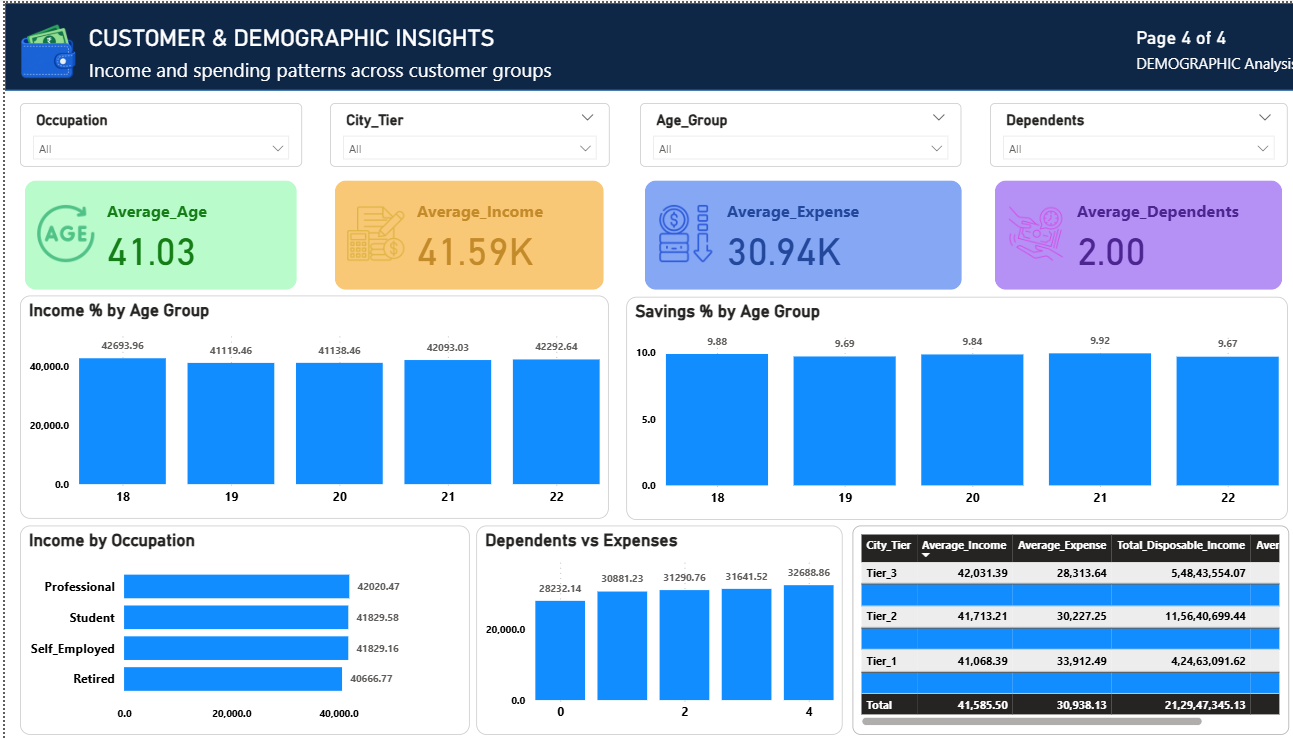

Layout of this report page (visuals, bound fields, positions):
{"tool":"powerbi","page":{"name":"DEMOGRAPHIC ANALYSIS","canvas":[1280,720],"ordinal":3},"visuals":[{"type":"shape","box":[0,0,1280.3,85.6],"z":0},{"type":"image","box":[0,9.8,80.7,75.8],"z":1000},{"type":"textbox","title":"CUSTOMER & DEMOGRAPHIC INSIGHTS","box":[77,20.8,480.6,62.4],"z":2000},{"type":"slicer","fields":{"Values":["Personal_Finance.Occupation"]},"box":[14.7,97.8,276.4,62.4],"z":3000},{"type":"slicer","fields":{"Values":["Personal_Finance.City_Tier"]},"box":[317.9,97.8,273.9,62.4],"z":4000},{"type":"slicer","fields":{"Values":["Personal_Finance.Age"]},"box":[621.2,97.8,314.3,62.4],"z":5000},{"type":"slicer","fields":{"Values":["Personal_Finance.Dependents"]},"box":[963.6,97.8,291,62.4],"z":6000},{"type":"cardVisual","title":"vc","fields":{"Data":["Personal_Finance.Average_Income"]},"box":[317.5,168.8,273.8,117.5],"z":7000},{"type":"cardVisual","title":"vc","fields":{"Data":["Personal_Finance.Average_Expense"]},"box":[621.2,168.8,320,117.5],"z":8000},{"type":"cardVisual","title":"vc","fields":{"Data":["Personal_Finance.Average_Dependents"]},"box":[963.8,168.8,291.2,117.5],"z":9000},{"type":"cardVisual","fields":{"Data":["Personal_Finance.Average_Age"]},"box":[15,168.8,276.2,117.5],"z":10000},{"type":"clusteredColumnChart","title":"Income % by Age Group","fields":{"Y":["Personal_Finance.Average_Income"],"Category":["Personal_Finance.Age"]},"box":[15,286.2,576.2,218.8],"z":11000},{"type":"barChart","title":"Income by Occupation","fields":{"Category":["Personal_Finance.Occupation"],"Y":["Personal_Finance.Average_Income"]},"box":[15,511.2,440,205],"z":12000},{"type":"clusteredColumnChart","title":"Savings % by Age Group","fields":{"Category":["Personal_Finance.Age"],"Y":["Personal_Finance.Average_Savings_%"]},"box":[607.5,287.5,647.5,218.8],"z":13000},{"type":"clusteredColumnChart","title":"Dependents vs Expenses","fields":{"Category":["Personal_Finance.Dependents"],"Y":["Personal_Finance.Average_Expense"]},"box":[461.2,511.2,358.8,205],"z":14000},{"type":"pivotTable","fields":{"Rows":["Personal_Finance.City_Tier"],"Values":["Personal_Finance.Average_Income","Personal_Finance.Average_Expense","Personal_Finance.Total_Disposable_Income","Personal_Finance.Average_Savings_%"]},"box":[829,511,427,205],"z":15000},{"type":"textbox","title":"Page 4 of 4 ","box":[1101.8,23.2,178.5,62.4],"z":15001}]}

Visuals, with their boxes in screenshot pixels (x1, y1, x2, y2), scaled from the page's 1280x720 canvas onto the 1293x739 screenshot:
shape: [0, 0, 1292, 88]
image: [0, 10, 82, 88]
"CUSTOMER & DEMOGRAPHIC INSIGHTS" textbox: [78, 21, 563, 85]
slicer - Personal_Finance.Occupation: [15, 100, 294, 164]
slicer - Personal_Finance.City_Tier: [321, 100, 598, 164]
slicer - Personal_Finance.Age: [628, 100, 945, 164]
slicer - Personal_Finance.Dependents: [973, 100, 1267, 164]
"vc" cardVisual: [321, 173, 597, 294]
"vc" cardVisual: [628, 173, 951, 294]
"vc" cardVisual: [974, 173, 1268, 294]
cardVisual - Personal_Finance.Average_Age: [15, 173, 294, 294]
"Income % by Age Group" clusteredColumnChart: [15, 294, 597, 518]
"Income by Occupation" barChart: [15, 525, 460, 735]
"Savings % by Age Group" clusteredColumnChart: [614, 295, 1268, 520]
"Dependents vs Expenses" clusteredColumnChart: [466, 525, 828, 735]
pivotTable - Personal_Finance.City_Tier x Personal_Finance.Average_Income: [837, 524, 1269, 735]
"Page 4 of 4 " textbox: [1113, 24, 1292, 88]
